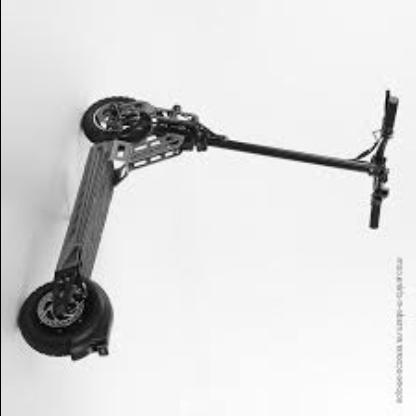bike: (17, 91, 405, 365)
